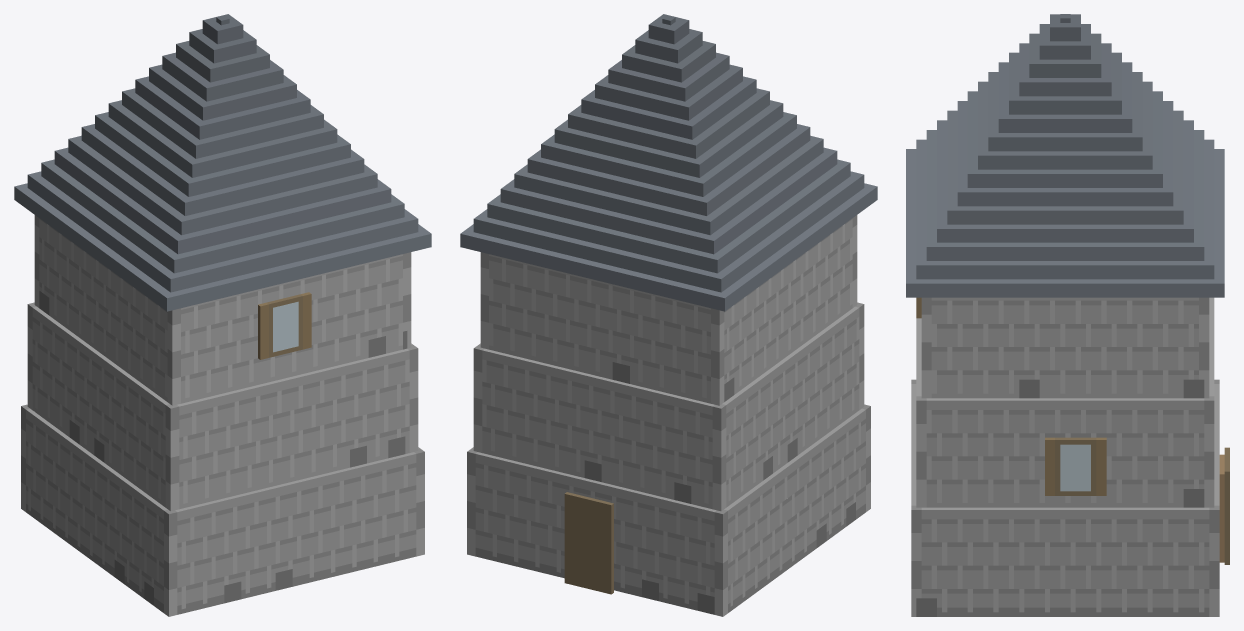
File: torre_militar_01.glb
3 renders of one model, left to right at view 1: azimuth 30°, elevation 25°; view 2: azimuth 150°, elevation 25°; view 3: azimuth 270°, elevation 25°, orthographic. The views are drawn at different scales.
Visible parts, largest first — view 1: torre_militar_01; view 2: torre_militar_01; view 3: torre_militar_01.
Part boxes in pixels (box(x1,y1,x2,y2)): torre_militar_01: box(14, 14, 431, 616); torre_militar_01: box(460, 14, 877, 616); torre_militar_01: box(906, 14, 1229, 616).
Bounding box in the file's own units: 6.2 × 11.5 × 6.3.
